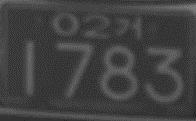0: (51, 10, 80, 37)
1: (14, 40, 46, 97)
2: (82, 13, 112, 40)
3: (145, 46, 185, 104)
7: (55, 41, 93, 97)
8: (100, 44, 139, 101)
거: (114, 15, 142, 40)
